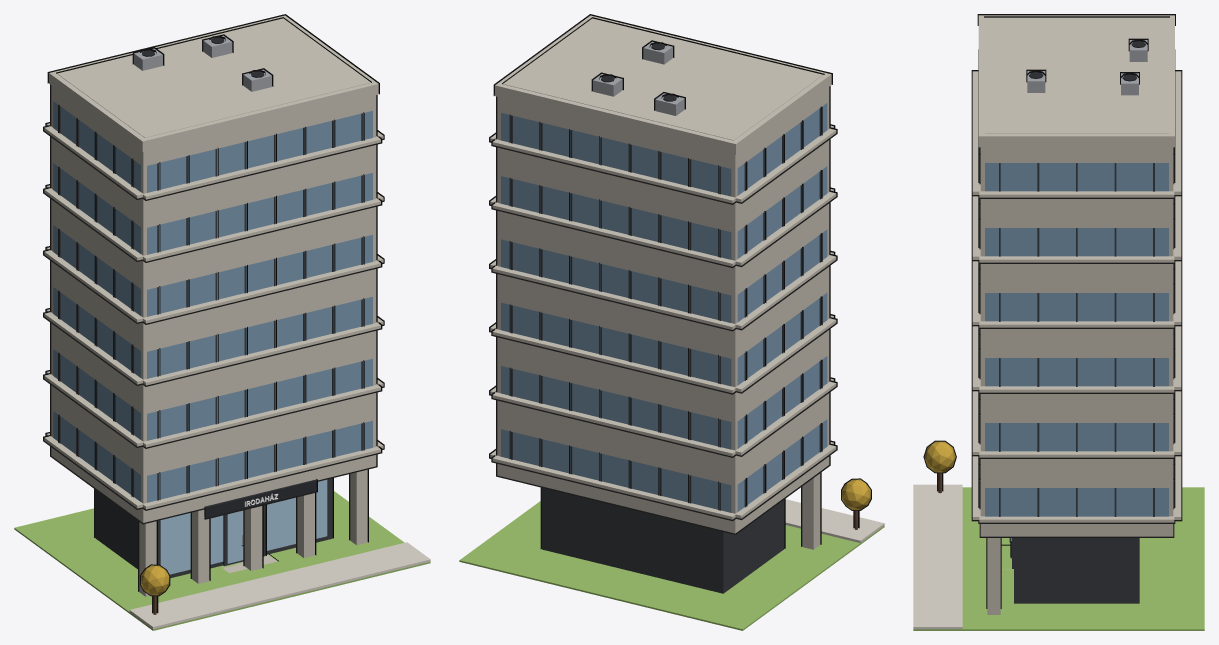
Rendered from Buro_yetmisler_2.fbx.
3 renders of one model, left to right at view 1: azimuth 30°, elevation 25°; view 2: azimuth 150°, elevation 25°; view 3: azimuth 270°, elevation 25°, orthographic. The views are drawn at different scales.
Visible parts, largest first — view 1: Buro_yetmisler_2; view 2: Buro_yetmisler_2; view 3: Buro_yetmisler_2.
Boxes of the visible parts, <box> form: Buro_yetmisler_2: <box>14,14,430,630</box>; Buro_yetmisler_2: <box>459,14,884,630</box>; Buro_yetmisler_2: <box>913,14,1204,630</box>.
Size of the model in its own units: 15 by 24.61 by 13.
